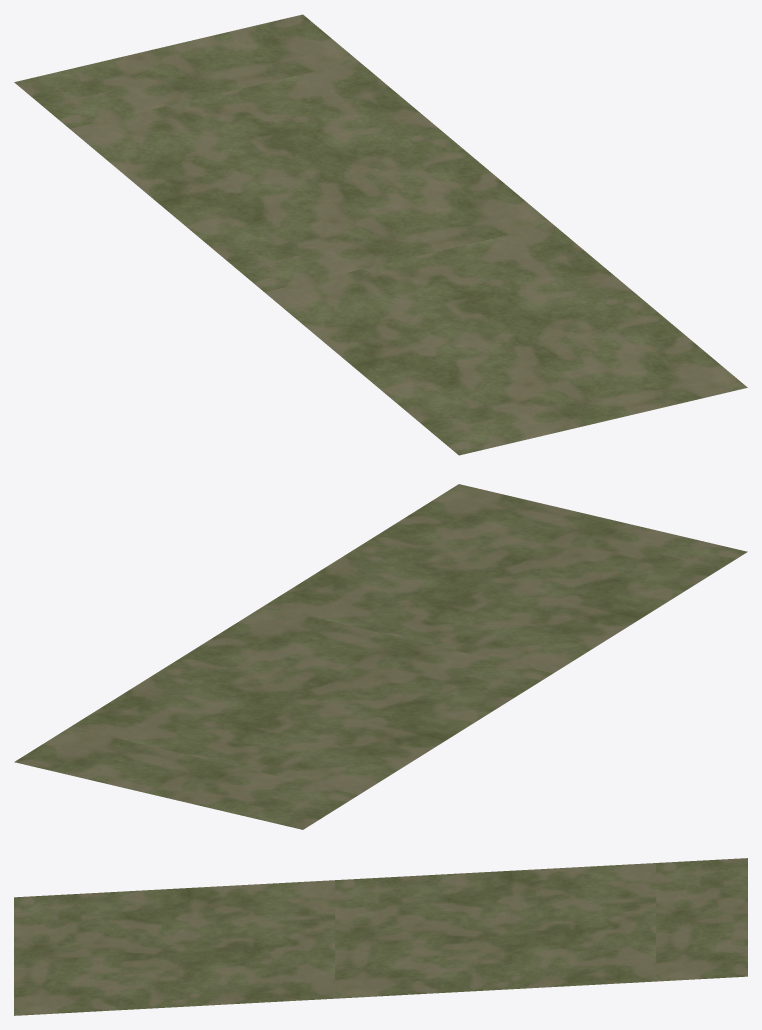
3 views of the same model, one above another, from view 1: azimuth 30°, elevation 25°; view 2: azimuth 150°, elevation 25°; view 3: azimuth 270°, elevation 25° (orthographic). The views are drawn at different scales.
Size of the model in its own units: 6 by 0.998 by 16.
1 material, 1 textured.
